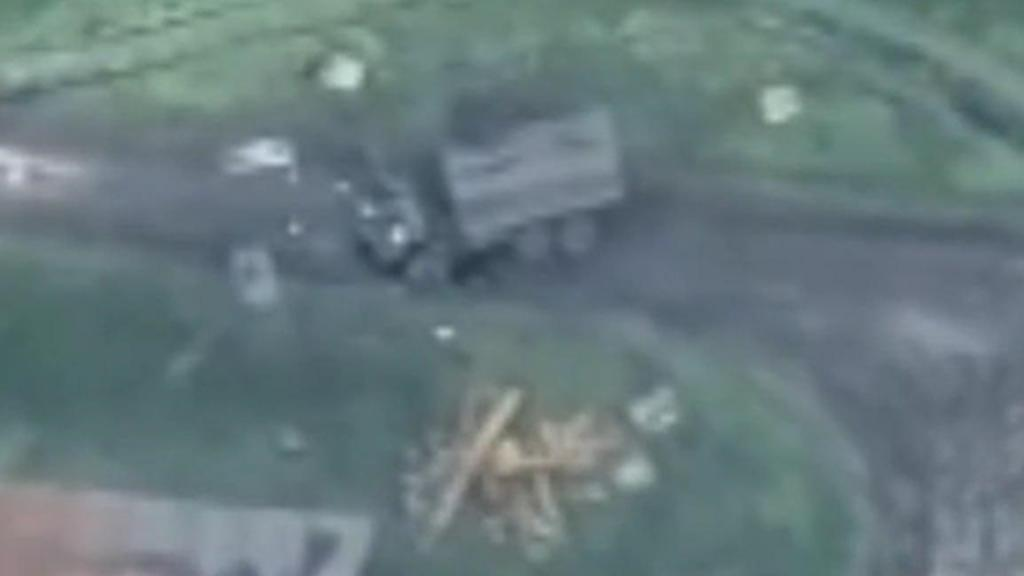TRUCK: (348, 96, 626, 296)
